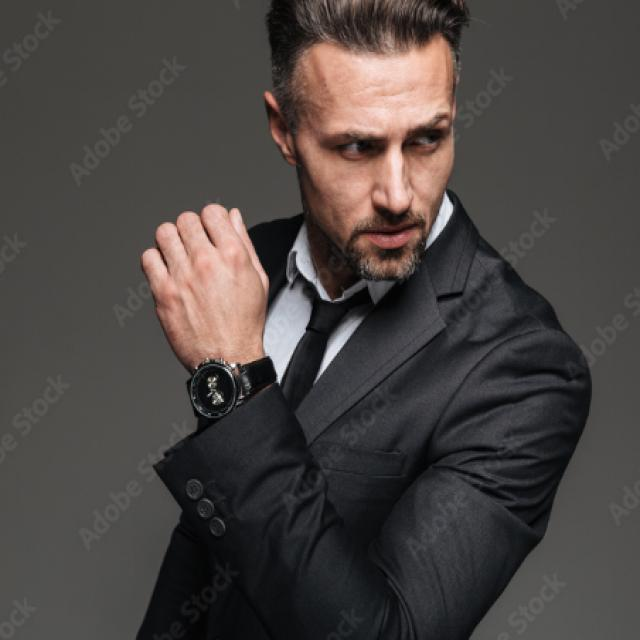Watch: (184, 350, 277, 428)
